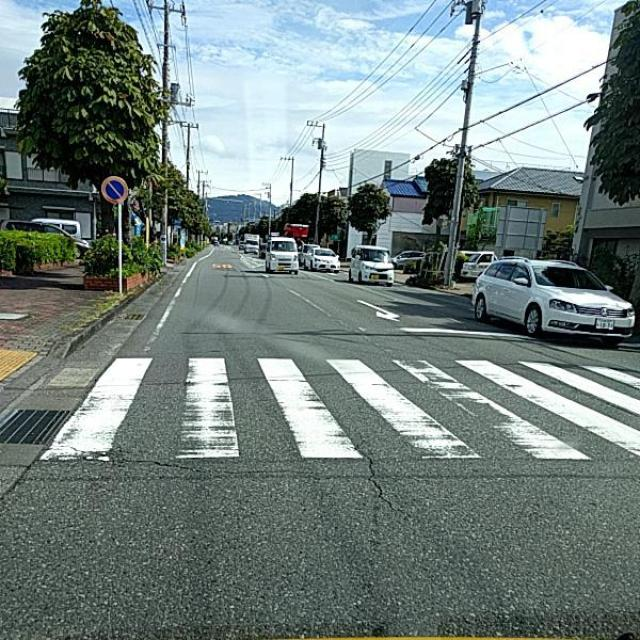Crack: (314, 387, 465, 594)
